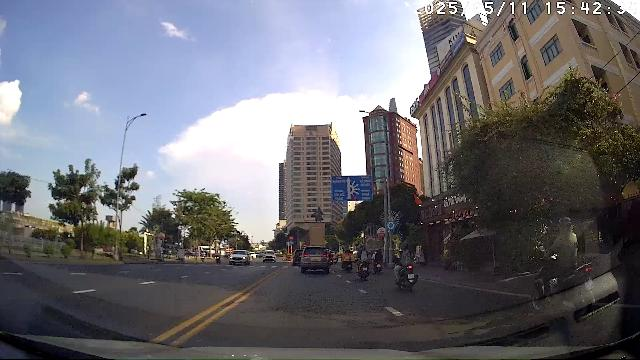303-noi-giao-nhau-chay-theo-vong-xuyen: (386, 221, 396, 230)
